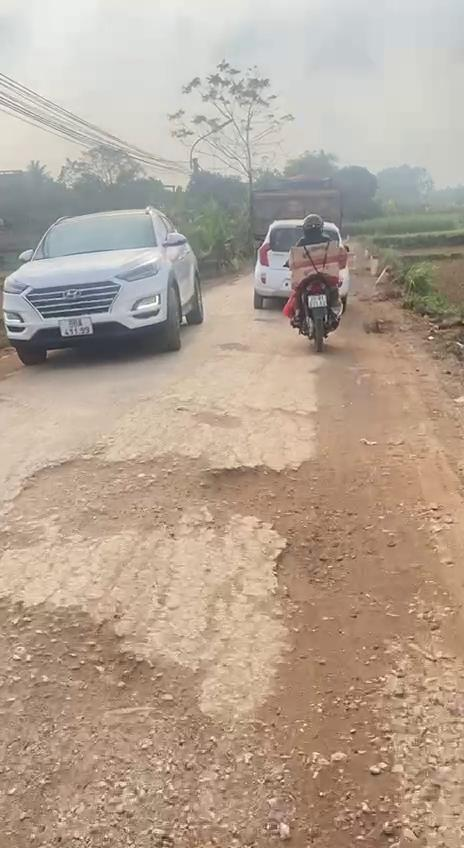pothole: (0, 595, 464, 848), (0, 444, 358, 604)
